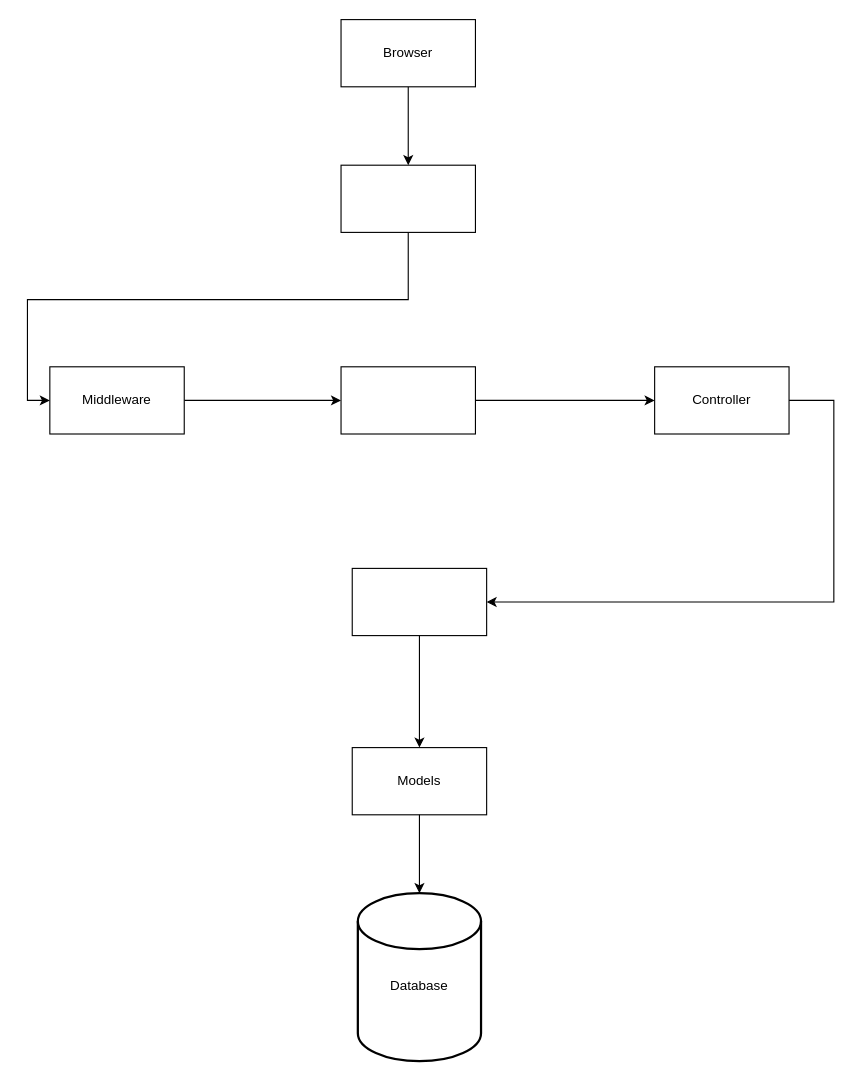
Some shapes in this 862 by 1082 pixel diagram are drawn without their labels. Here are the shapes that lost their labels. From the top down, the box of each, then its label:
(340, 164, 475, 232): Routing
(340, 366, 475, 434): Requests
(351, 567, 487, 636): Services
